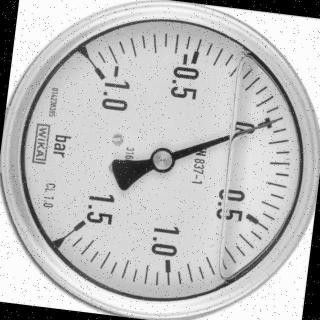gauge: (0, 0, 320, 320), (51, 186, 118, 253), (80, 52, 138, 120), (148, 146, 176, 175), (271, 112, 287, 126)
